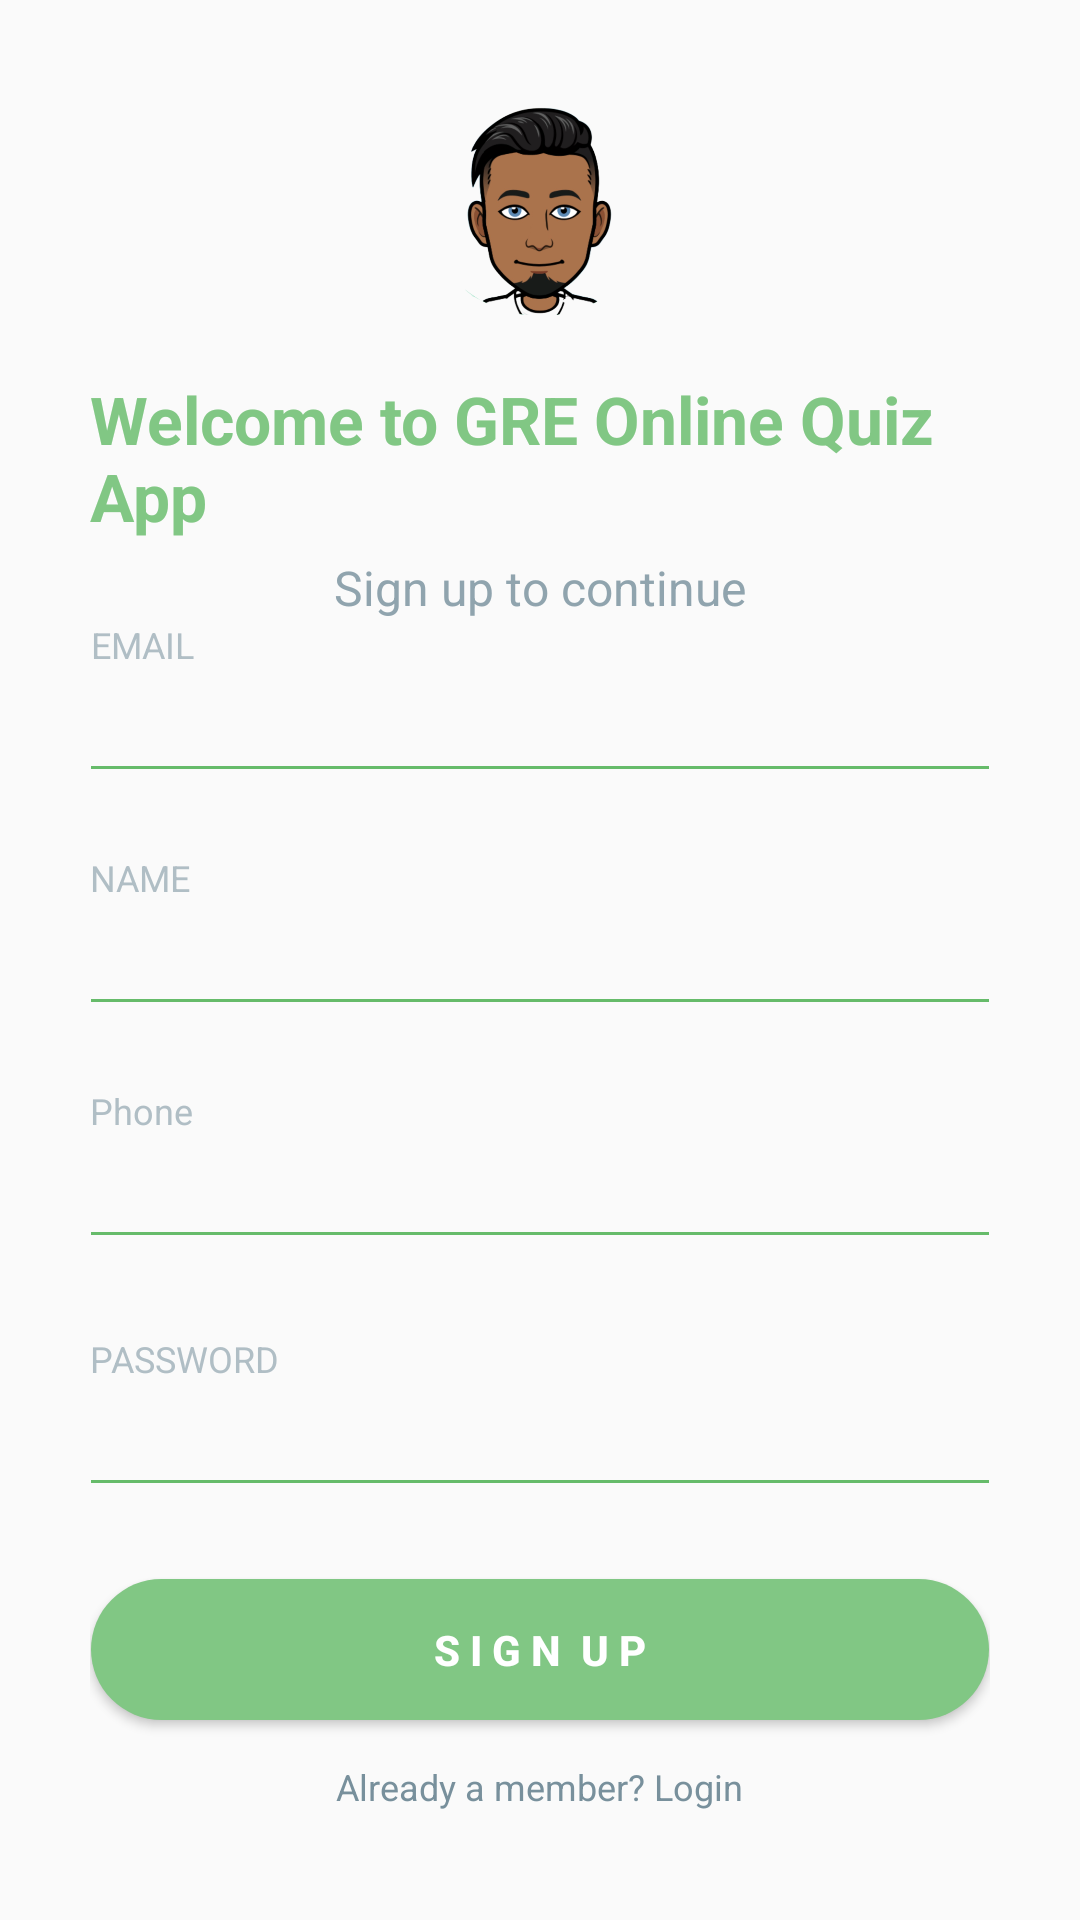

Screen size 1080×1920. Icon name, then its center in pixels as [x,y]:
bitmoji: [539,211]
